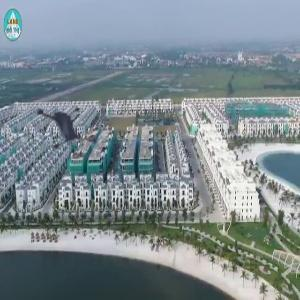drone: (20, 90, 94, 164)
